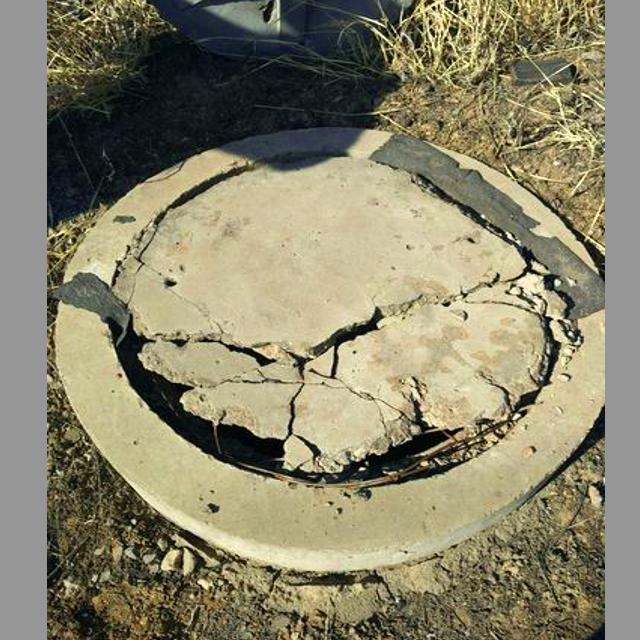broke: (73, 121, 589, 561)
